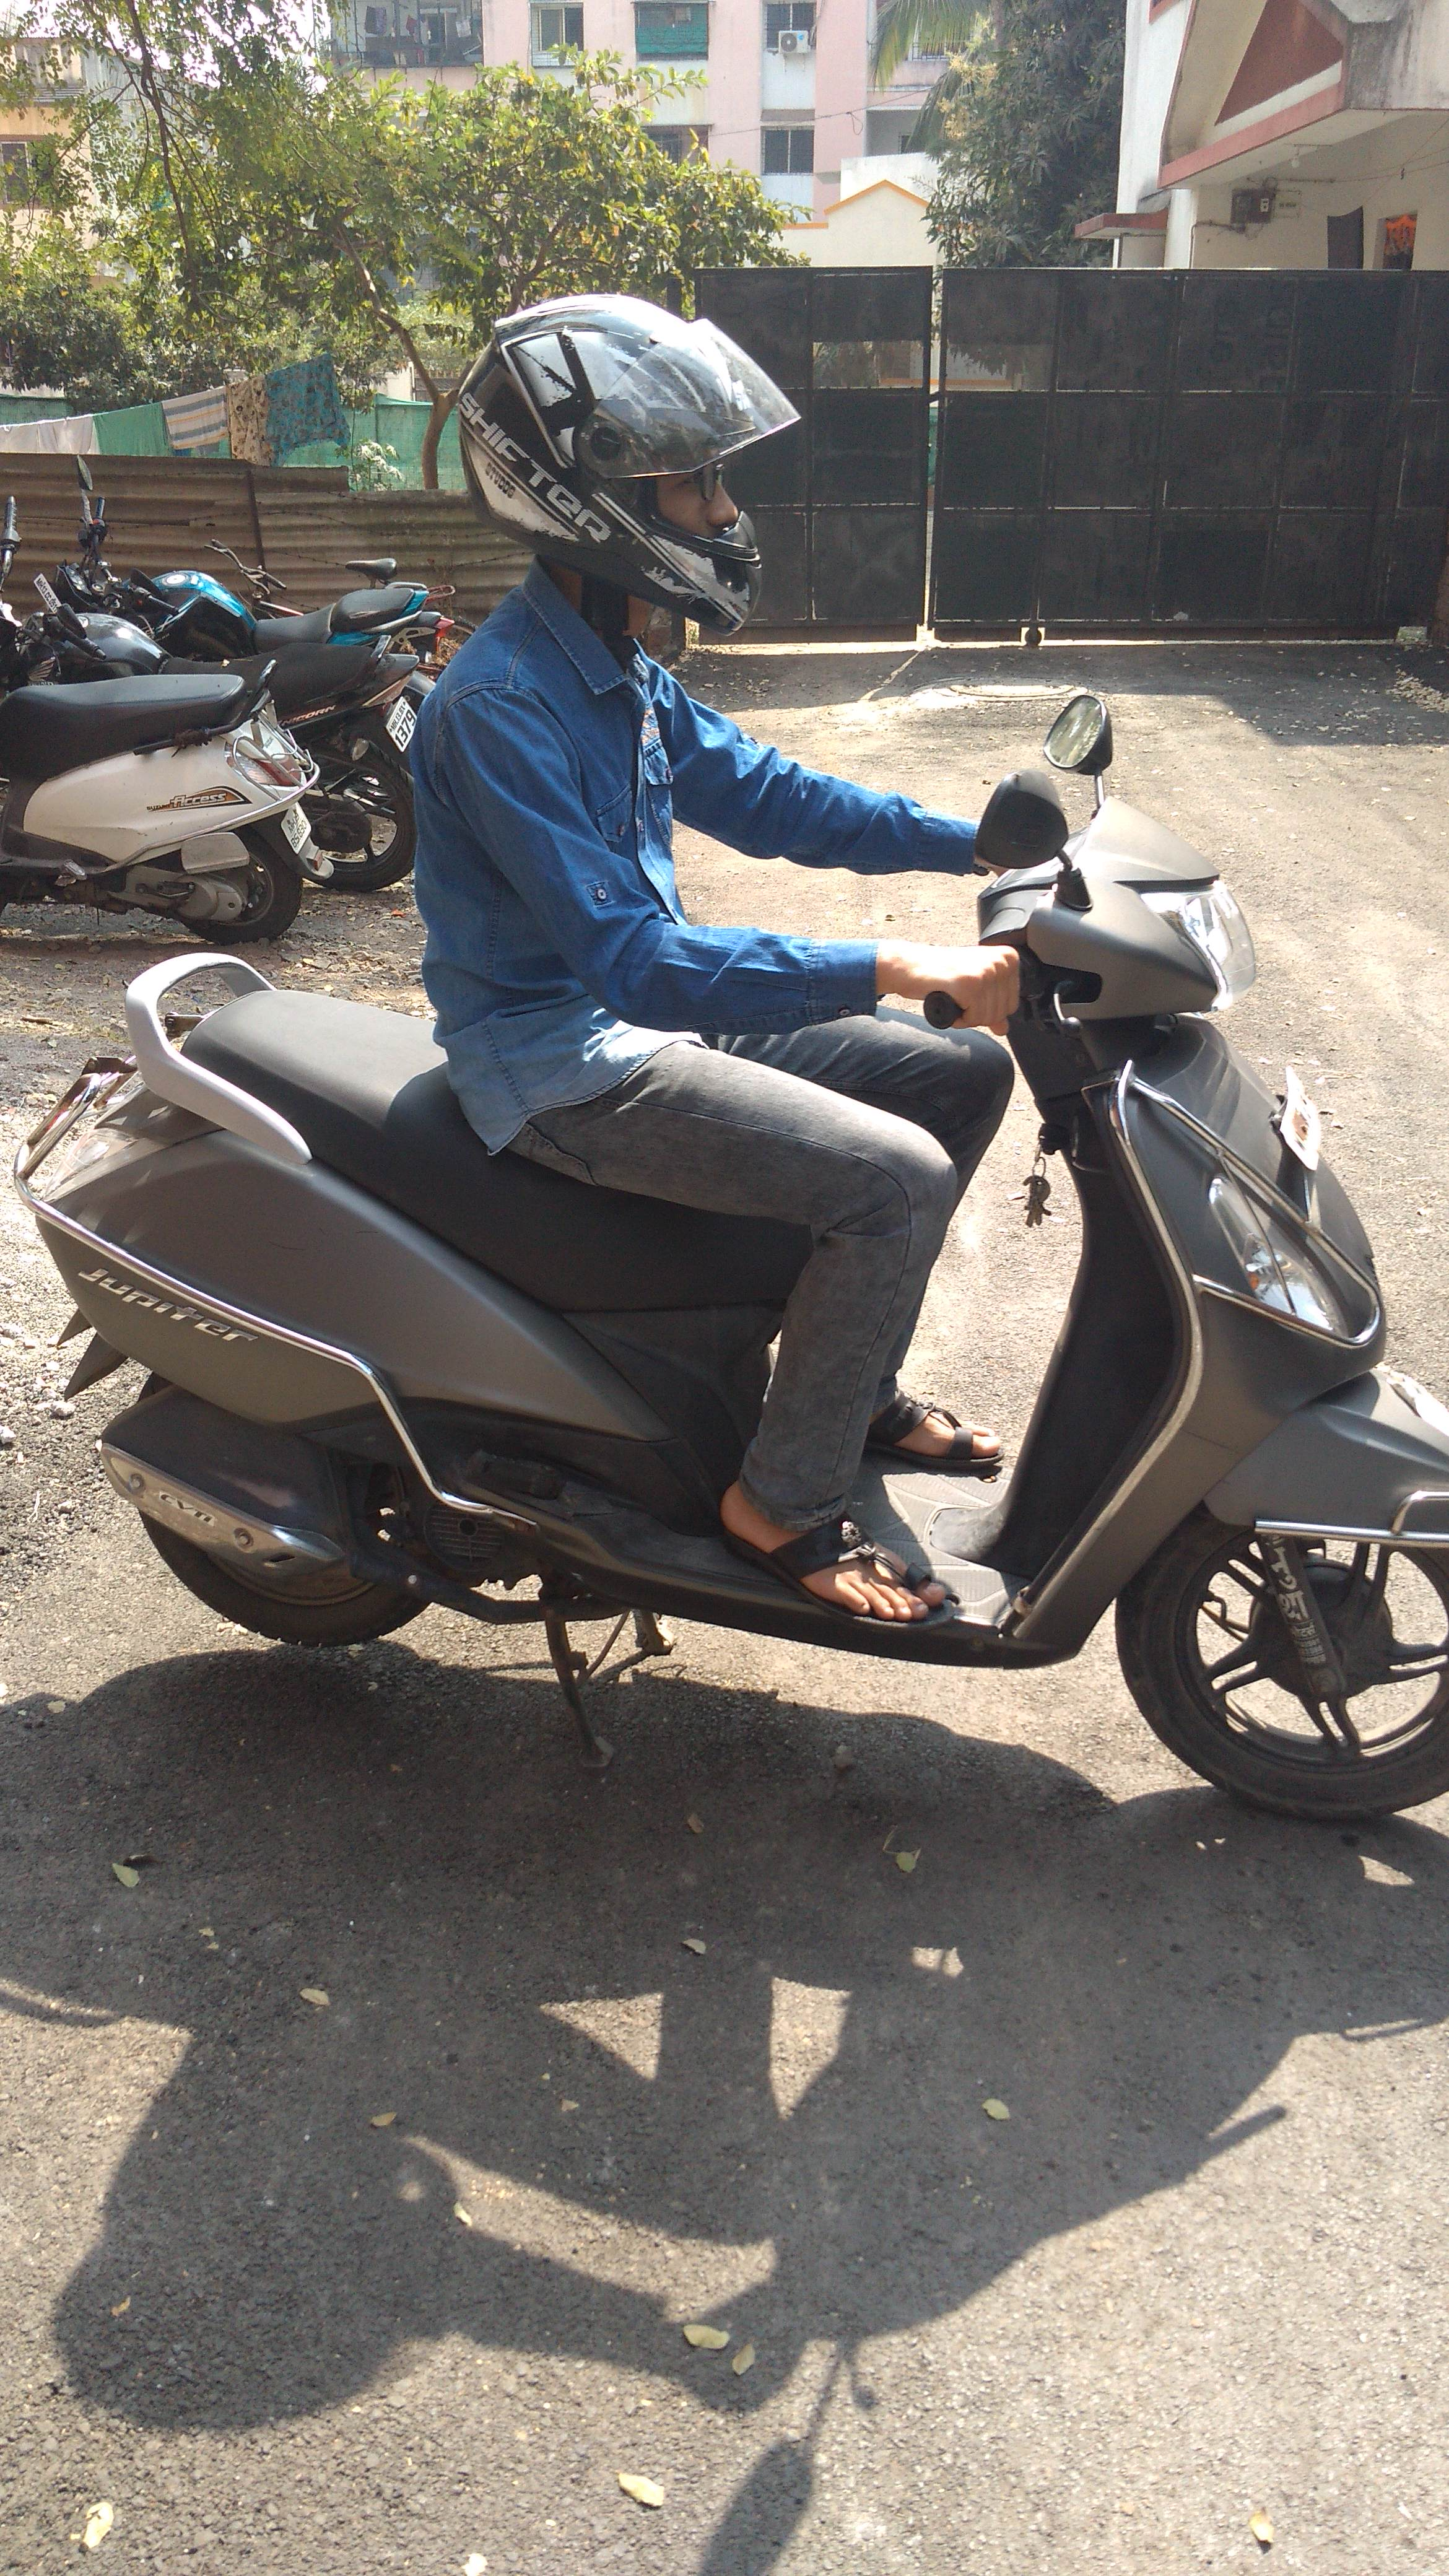helmet: (389, 306, 1191, 1693)
